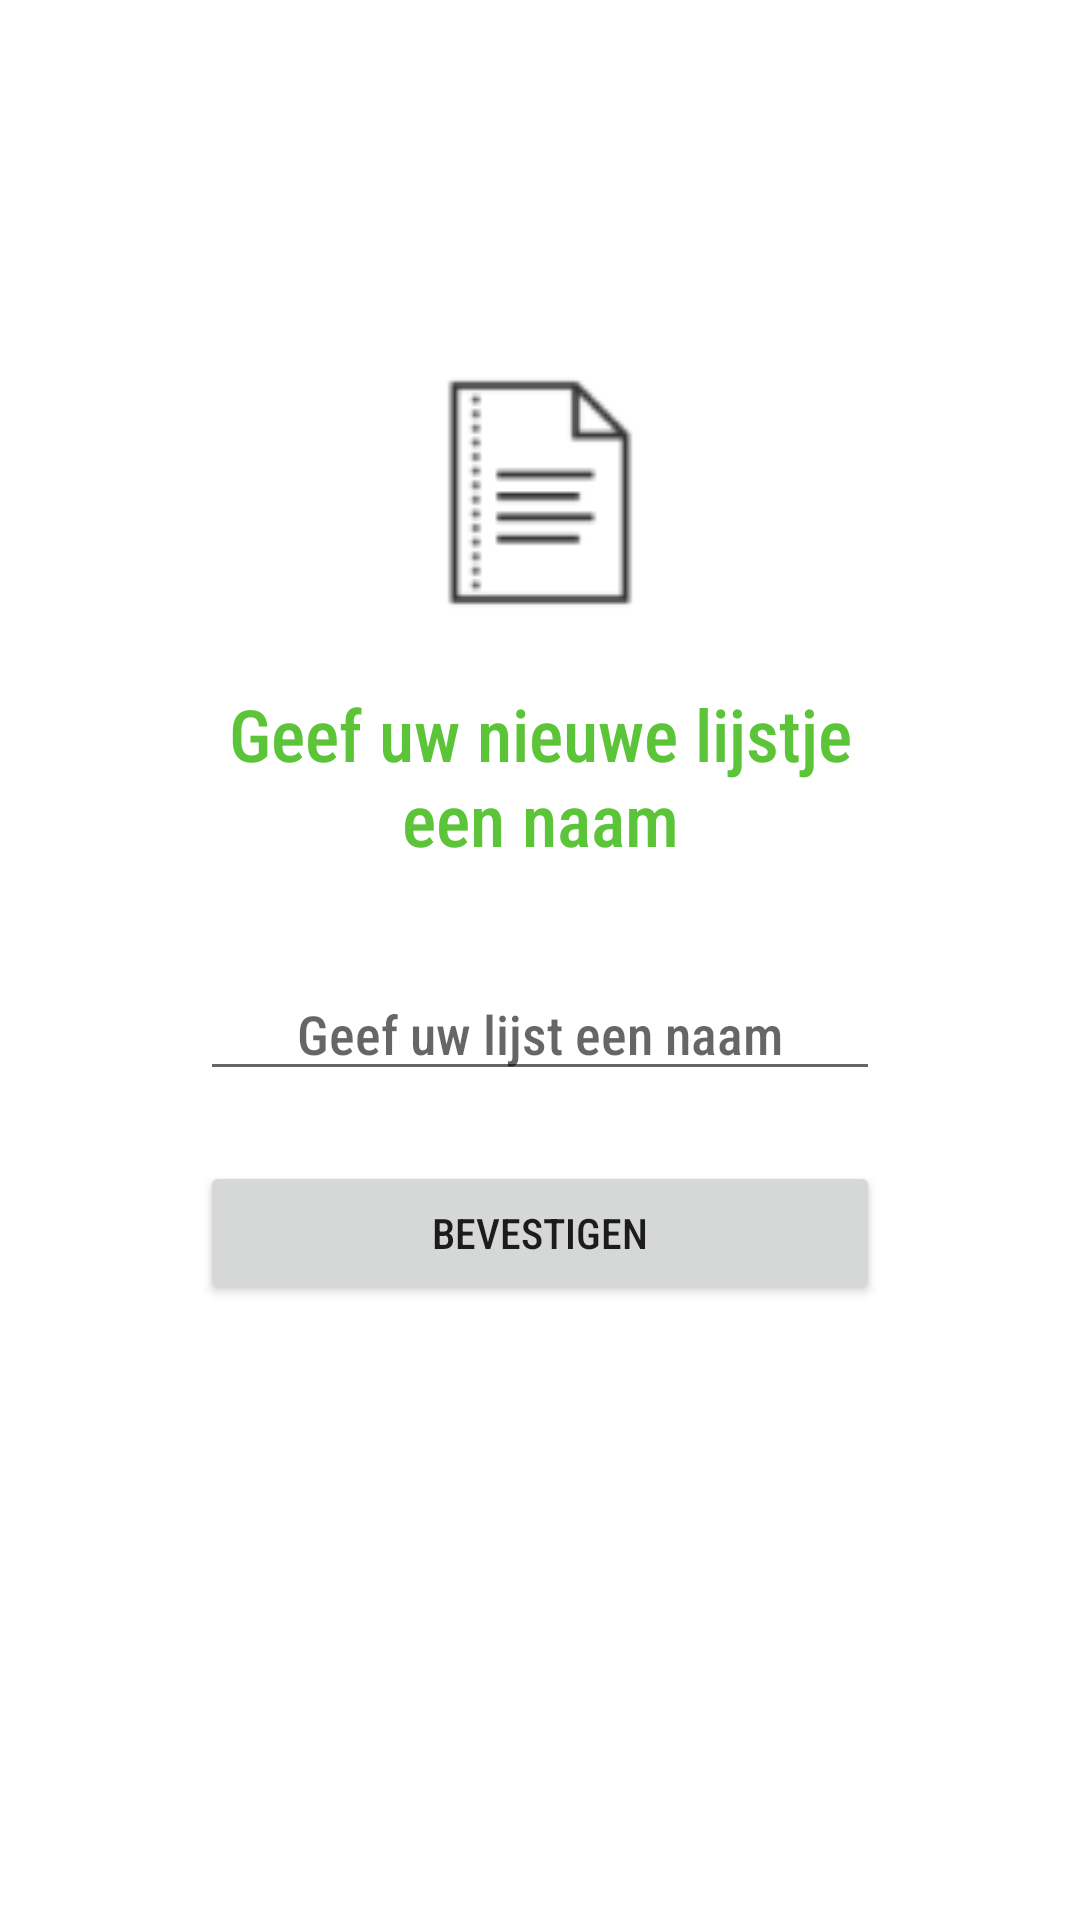

Point at icon controls on the screen. Image size 1080w x 1920h, points as (x,y).
shopping list: (540,492)
